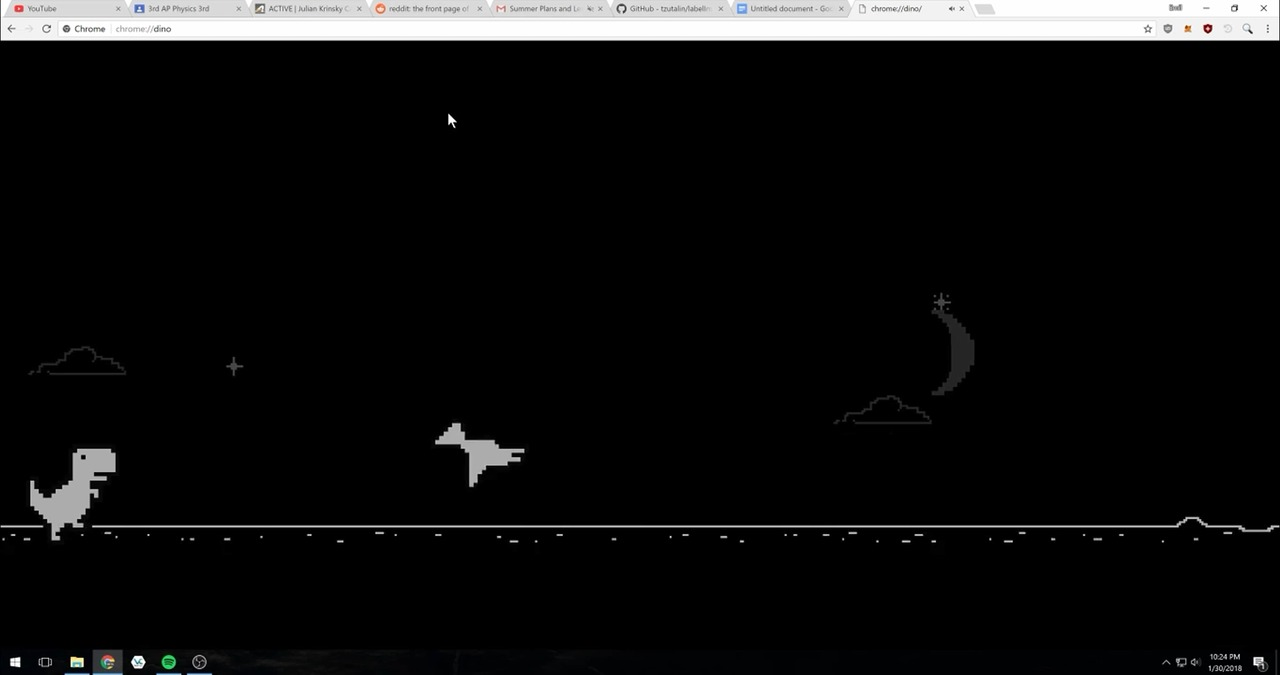bird: (435, 416, 526, 490)
dinosaur: (27, 444, 120, 543)
